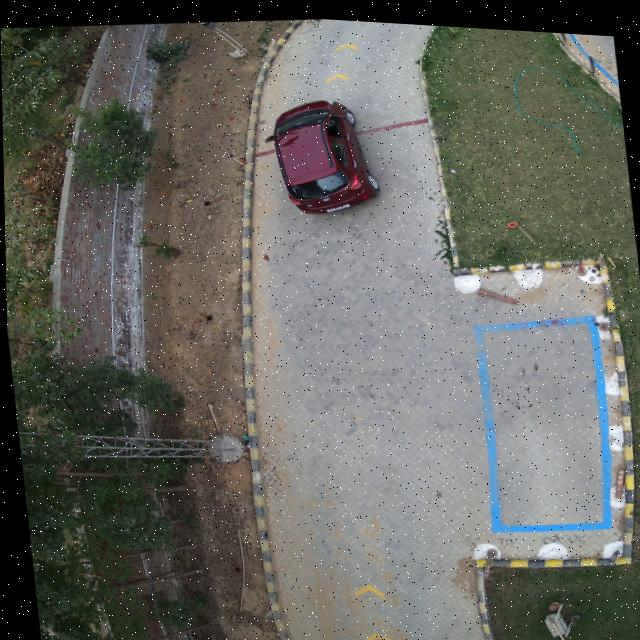car: (266, 95, 378, 209)
